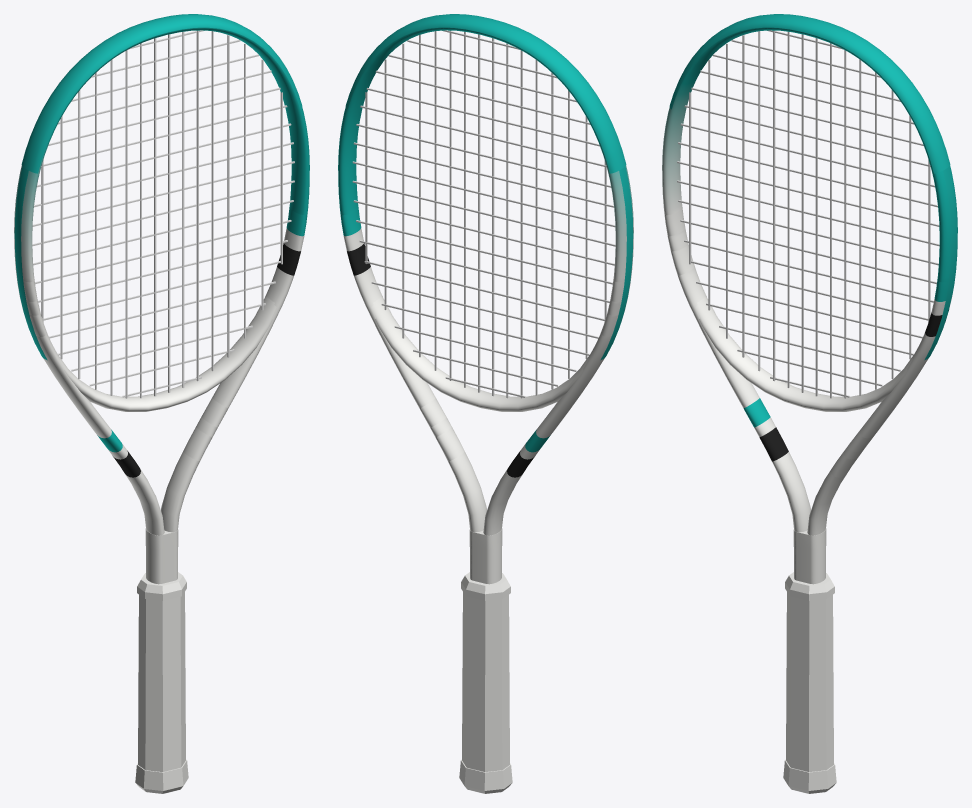
File: tecnifibre-tempo-2026.glb
3 renders of one model, left to right at view 1: azimuth 30°, elevation 25°; view 2: azimuth 150°, elevation 25°; view 3: azimuth 330°, elevation 25°, orthographic.
Visible parts, largest first — view 1: frame, strings_mains, strings_crosses, grip, bumper, grommets, butt_cap, collar; view 2: frame, strings_mains, strings_crosses, grip, bumper, grommets, butt_cap, collar; view 3: frame, strings_mains, strings_crosses, grip, bumper, grommets, butt_cap, collar.
Boxes of the visible parts, <box> form: frame: <box>14,27,309,584</box>; strings_mains: <box>41,30,282,398</box>; strings_crosses: <box>32,30,294,397</box>; grip: <box>138,592,185,771</box>; bumper: <box>21,14,302,173</box>; grommets: <box>14,166,47,360</box>; butt_cap: <box>135,759,188,793</box>; collar: <box>137,572,186,600</box>; frame: <box>338,27,633,584</box>; strings_mains: <box>365,30,606,398</box>; strings_crosses: <box>352,30,615,397</box>; grip: <box>462,592,509,771</box>; bumper: <box>345,14,626,173</box>; grommets: <box>600,166,633,360</box>; butt_cap: <box>459,759,512,793</box>; collar: <box>461,572,510,600</box>; frame: <box>662,27,957,584</box>; strings_mains: <box>689,30,930,398</box>; strings_crosses: <box>677,30,939,397</box>; grip: <box>786,592,833,771</box>; bumper: <box>669,14,950,173</box>; grommets: <box>924,166,957,360</box>; butt_cap: <box>783,759,836,793</box>; collar: <box>785,572,834,600</box>.
Bounding box in the file's own units: 0.2721 × 0.6861 × 0.037.
